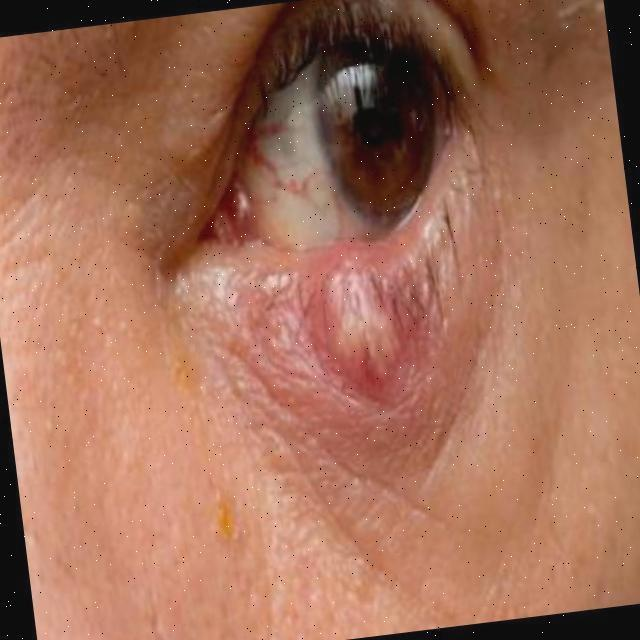Stye: (259, 196, 476, 426)
